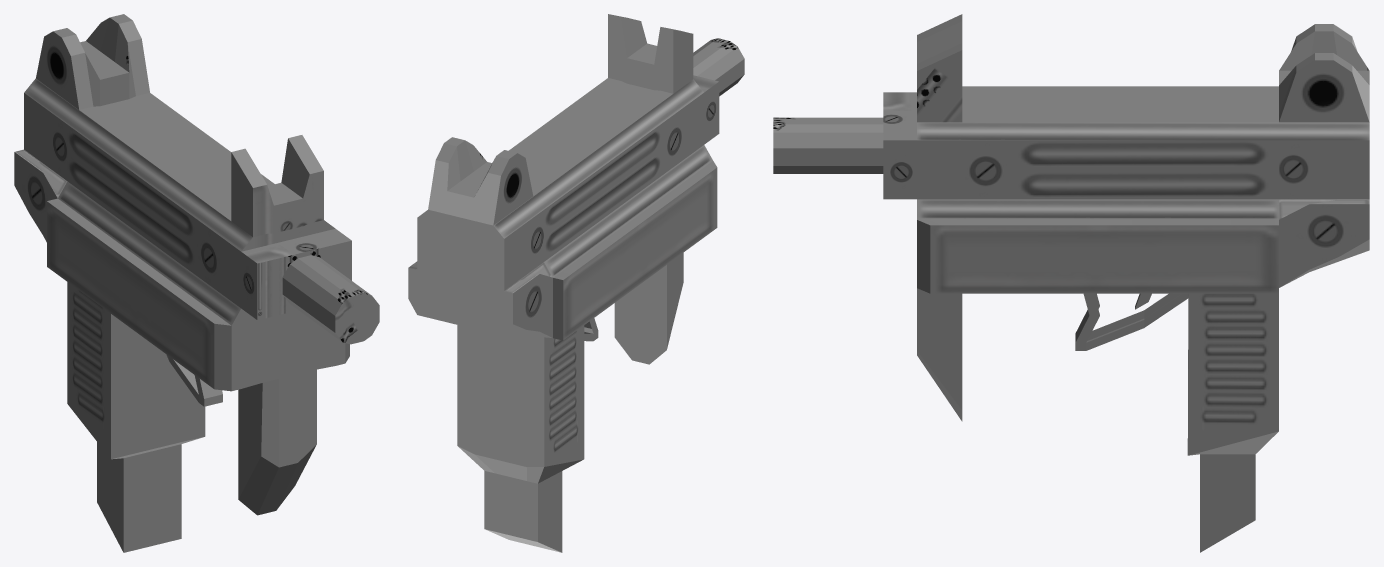
The model's file is SMG 1.fbx.
The picture shows the model from 3 angles, left to right: view 1: azimuth 30°, elevation 25°; view 2: azimuth 150°, elevation 25°; view 3: azimuth 270°, elevation 25°; orthographic projection. The views are drawn at different scales.
Parts seen in each view (by area): view 1: Cube; view 2: Cube; view 3: Cube.
Part boxes in pixels (bbox=[...]): Cube: bbox=[14, 14, 379, 552]; Cube: bbox=[408, 14, 744, 552]; Cube: bbox=[773, 14, 1369, 552].
Size of the model in its own units: 167 by 571 by 609.
